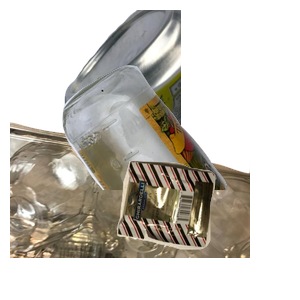glass: (60, 63, 300, 243)
metal: (60, 10, 300, 190)
plastic: (10, 120, 250, 300)
trash: (115, 158, 300, 300)
